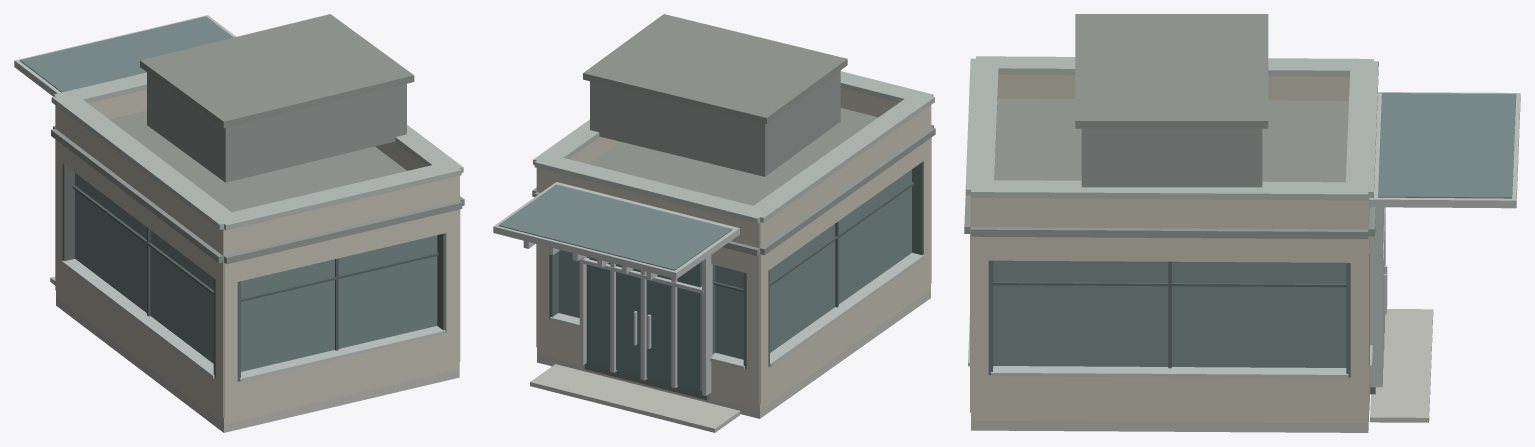
File: mapped_334120555.glb
3 views of the same model, side by side, from view 1: azimuth 30°, elevation 25°; view 2: azimuth 150°, elevation 25°; view 3: azimuth 270°, elevation 25° (orthographic). The views are drawn at different scales.
Parts seen in each view (by area): view 1: mapped_334120555_ServiceWarm, mapped_334120555_WindowGlassLight, mapped_334120555_FacultyRoof, mapped_334120555_FacultyDarkPanel, mapped_334120555_Teaching5TileJoint, mapped_334120555_WindowAluminium, mapped_334120555_EntryStone, mapped_334120555_WindowReveal, mapped_334120555_WindowRubber; view 2: mapped_334120555_ServiceWarm, mapped_334120555_WindowGlassLight, mapped_334120555_FacultyRoof, mapped_334120555_FacultyDarkPanel, mapped_334120555_WindowAluminium, mapped_334120555_Teaching5TileJoint, mapped_334120555_WindowGlass, mapped_334120555_EntryStone, mapped_334120555_WindowReveal, mapped_334120555_WindowRubber; view 3: mapped_334120555_WindowGlassLight, mapped_334120555_ServiceWarm, mapped_334120555_FacultyRoof, mapped_334120555_Teaching5TileJoint, mapped_334120555_FacultyDarkPanel, mapped_334120555_EntryStone, mapped_334120555_WindowAluminium, mapped_334120555_WindowRubber, mapped_334120555_WindowReveal.
Boxes of the visible parts, bbox=[...] form: mapped_334120555_ServiceWarm: bbox=[55, 89, 460, 424]; mapped_334120555_WindowGlassLight: bbox=[20, 16, 437, 371]; mapped_334120555_FacultyRoof: bbox=[109, 14, 414, 212]; mapped_334120555_FacultyDarkPanel: bbox=[51, 72, 464, 264]; mapped_334120555_Teaching5TileJoint: bbox=[51, 72, 463, 230]; mapped_334120555_WindowAluminium: bbox=[14, 15, 445, 381]; mapped_334120555_EntryStone: bbox=[50, 276, 459, 432]; mapped_334120555_WindowReveal: bbox=[62, 163, 446, 381]; mapped_334120555_WindowRubber: bbox=[72, 185, 438, 350]; mapped_334120555_ServiceWarm: bbox=[536, 88, 931, 410]; mapped_334120555_WindowGlassLight: bbox=[498, 169, 911, 359]; mapped_334120555_FacultyRoof: bbox=[583, 14, 877, 205]; mapped_334120555_FacultyDarkPanel: bbox=[532, 70, 935, 255]; mapped_334120555_WindowAluminium: bbox=[493, 182, 924, 395]; mapped_334120555_Teaching5TileJoint: bbox=[533, 71, 934, 223]; mapped_334120555_WindowGlass: bbox=[589, 257, 701, 391]; mapped_334120555_EntryStone: bbox=[530, 290, 930, 432]; mapped_334120555_WindowReveal: bbox=[549, 161, 923, 400]; mapped_334120555_WindowRubber: bbox=[714, 182, 914, 307]; mapped_334120555_WindowGlassLight: bbox=[993, 93, 1516, 367]; mapped_334120555_ServiceWarm: bbox=[970, 74, 1370, 422]; mapped_334120555_FacultyRoof: bbox=[994, 14, 1348, 182]; mapped_334120555_Teaching5TileJoint: bbox=[965, 56, 1378, 200]; mapped_334120555_FacultyDarkPanel: bbox=[964, 128, 1375, 239]; mapped_334120555_EntryStone: bbox=[971, 309, 1433, 432]; mapped_334120555_WindowAluminium: bbox=[968, 92, 1520, 387]; mapped_334120555_WindowRubber: bbox=[993, 261, 1346, 368]; mapped_334120555_WindowReveal: bbox=[988, 253, 1375, 394].
Size of the model in its own units: 5.46 by 5.68 by 9.23.
